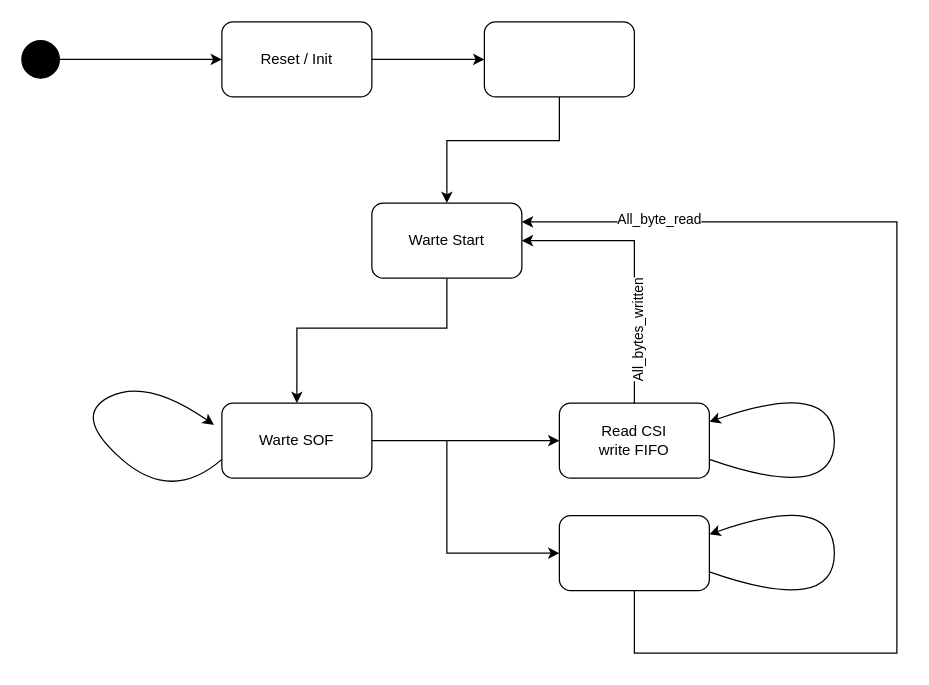
The diagram is 929 pixels wide and 685 high, and some of its shapes have lost their labels. Here are the shapes that lost their labels. From the top down, the centre of each, then its label:
the point at 558,59: Camera init
the point at 633,552: Read FIFO write SDRAM / write DE10
